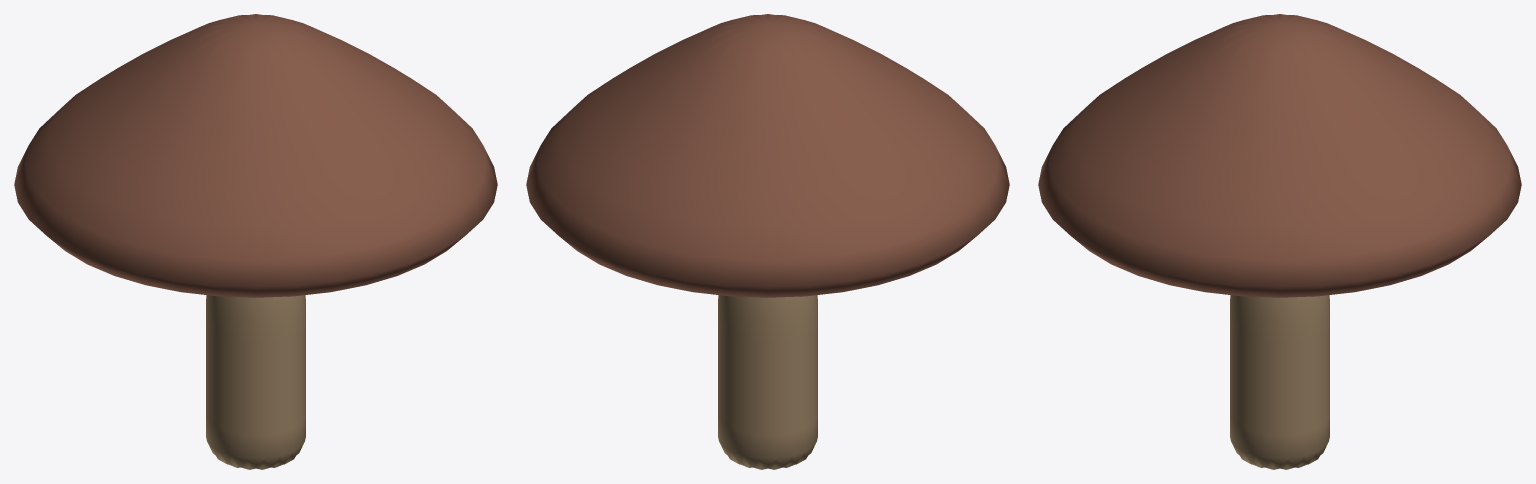
The model's file is BrunSopp.FBX.
3 views of the same model, side by side, from view 1: azimuth 30°, elevation 25°; view 2: azimuth 150°, elevation 25°; view 3: azimuth 270°, elevation 25° (orthographic).
Visible parts, largest first — view 1: BrunSopp; view 2: BrunSopp; view 3: BrunSopp.
Boxes of the visible parts, x1,y1,x2,y2 form: BrunSopp: (14,14,497,469); BrunSopp: (526,14,1009,469); BrunSopp: (1038,14,1521,469).
Size of the model in its own units: 0.191 by 0.19 by 0.1909.
